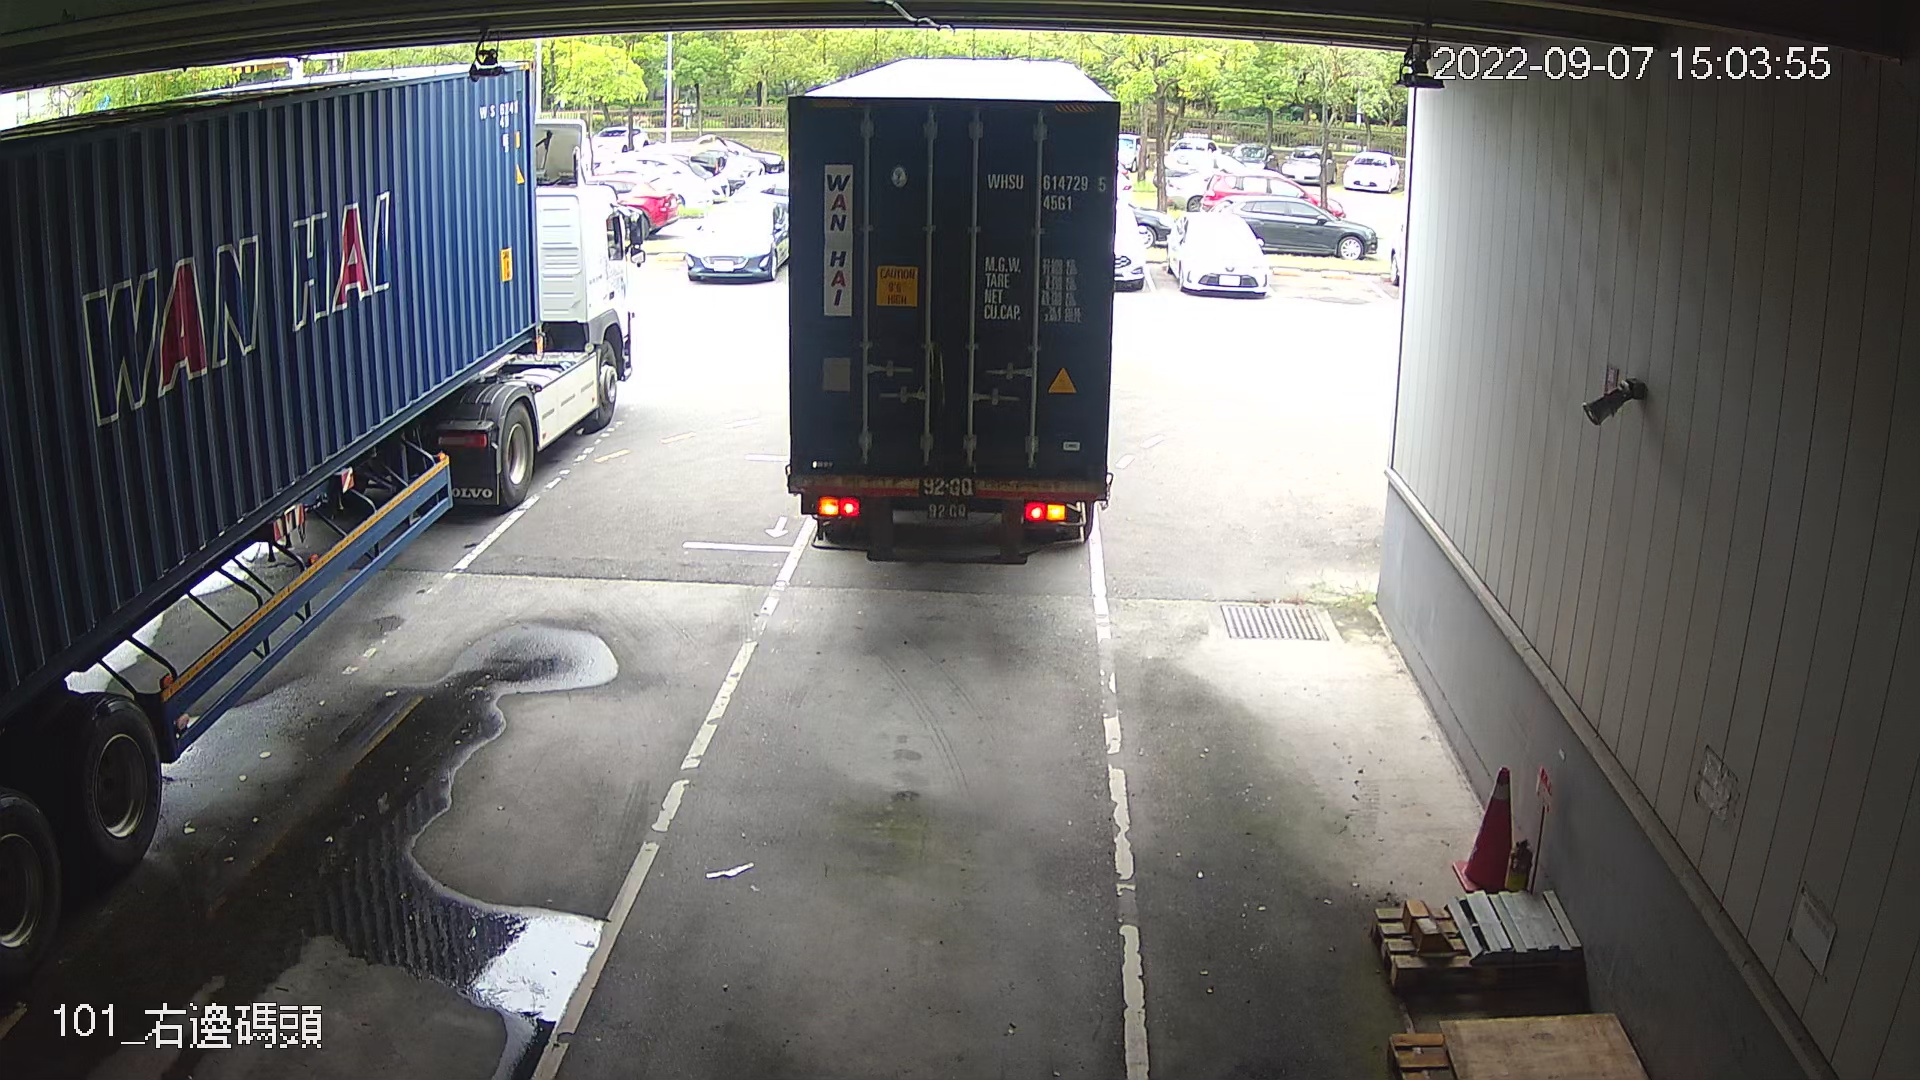container: (981, 164, 1109, 219)
